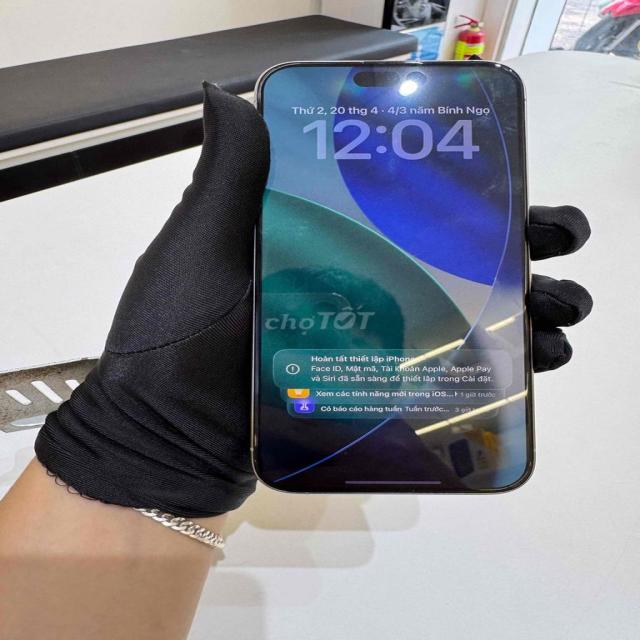scratch: (468, 56, 526, 158)
